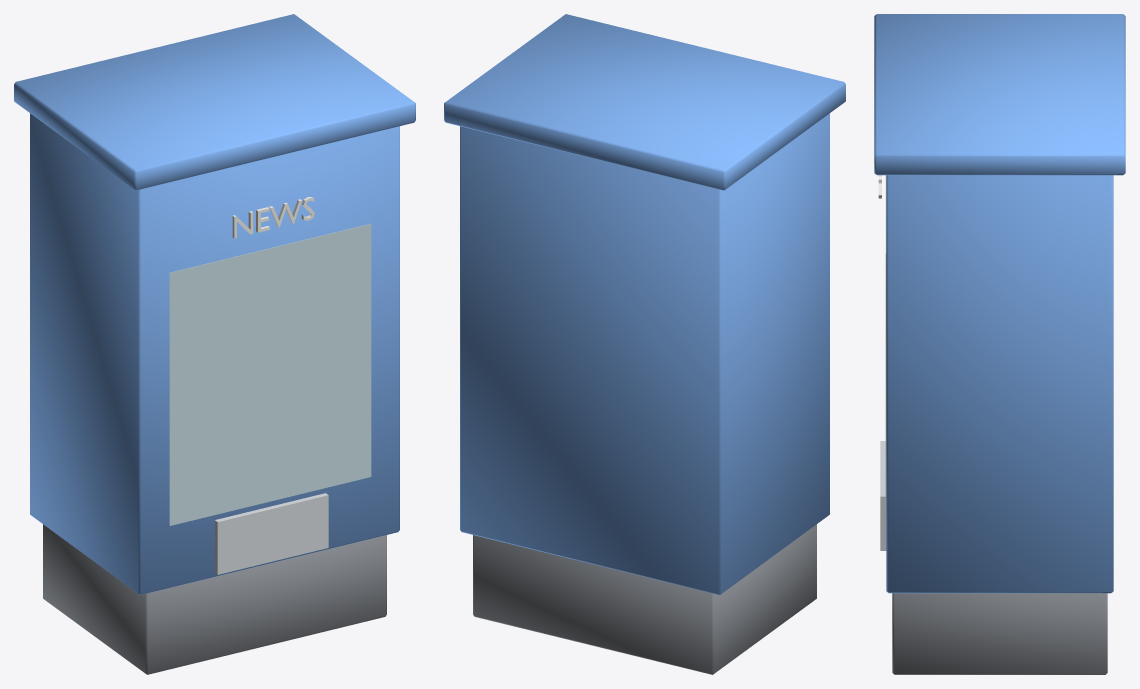
Rendered from NewspaperBox.fbx.
3 views of the same model, side by side, from view 1: azimuth 30°, elevation 25°; view 2: azimuth 150°, elevation 25°; view 3: azimuth 270°, elevation 25° (orthographic). The views are drawn at different scales.
Parts seen in each view (by area): view 1: LOD0; view 2: LOD0; view 3: LOD0.
Part boxes in pixels (x1,y1,x2,y2): LOD0: (14, 14, 415, 674); LOD0: (444, 14, 845, 674); LOD0: (874, 14, 1125, 674).
Size of what is drawn, in the model's own units: 56 by 98 by 42.
